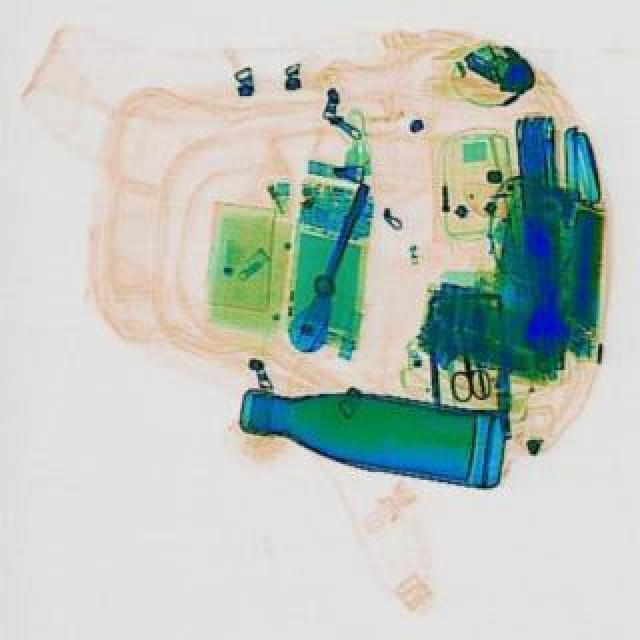pliers: (440, 320, 492, 406)
